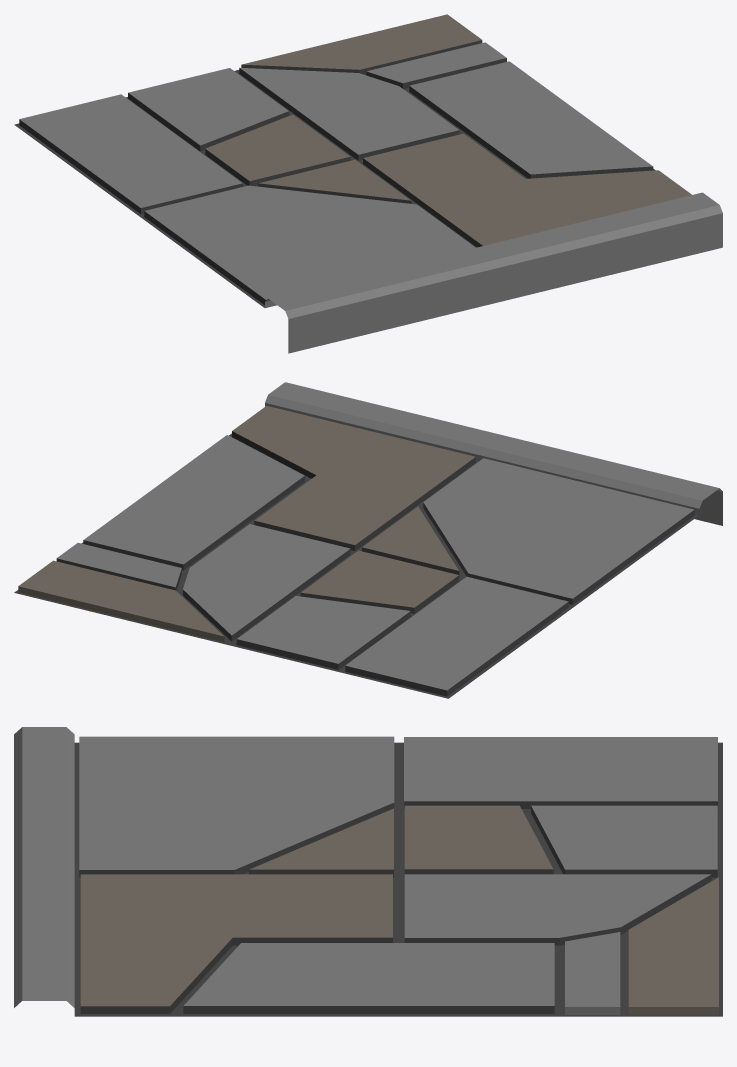
The model's file is Walkway Modern B - 2.fbx.
3 views of the same model, one above another, from view 1: azimuth 30°, elevation 25°; view 2: azimuth 150°, elevation 25°; view 3: azimuth 270°, elevation 25° (orthographic). The views are drawn at different scales.
Parts seen in each view (by area): view 1: Walkway Modern B - 2.000; view 2: Walkway Modern B - 2.000; view 3: Walkway Modern B - 2.000.
Part boxes in pixels (x1=…): Walkway Modern B - 2.000: x1=14, y1=14, x2=722, y2=353; Walkway Modern B - 2.000: x1=14, y1=382, x2=722, y2=698; Walkway Modern B - 2.000: x1=14, y1=727, x2=722, y2=1016.
Bounding box in the file's own units: 305 × 333 × 27.01.
